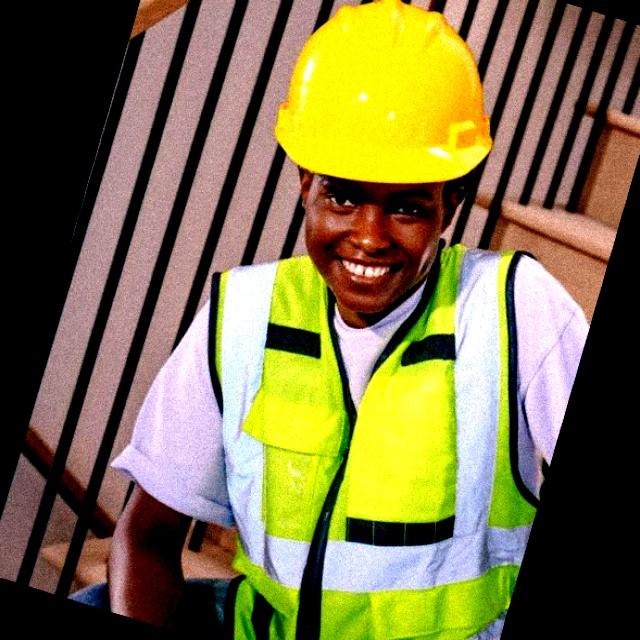helmet: (278, 2, 498, 187)
safety_vest: (204, 252, 528, 638)
